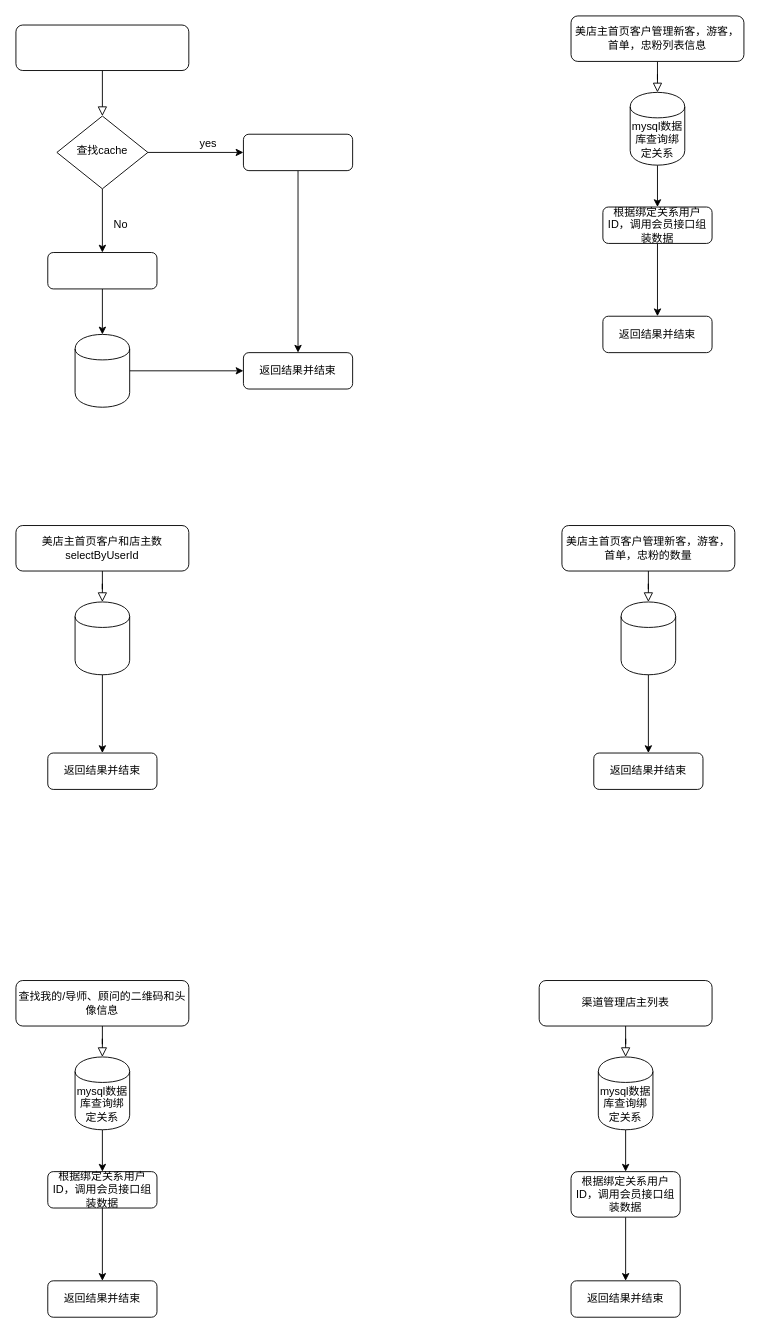
Some shapes in this 760 by 1333 pixel diagram are drawn without their labels. The centre of each missing label's shape, as x and y in pixels:
"mongodb数据库" goes at [102,638].
"mysql数据库" goes at [648,638].
"结果存到cache中" goes at [102,370].
"美店主首页 queryMshopOwnerIndexByUserId" goes at [102,47].
"调用会员组的接口进行数据的组装" goes at [102,270].
"返回美店主首页头像昵称等基础信息" goes at [298,152].
